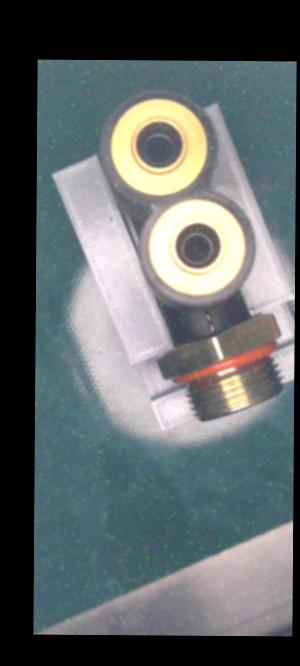craze: (205, 308, 217, 332)
